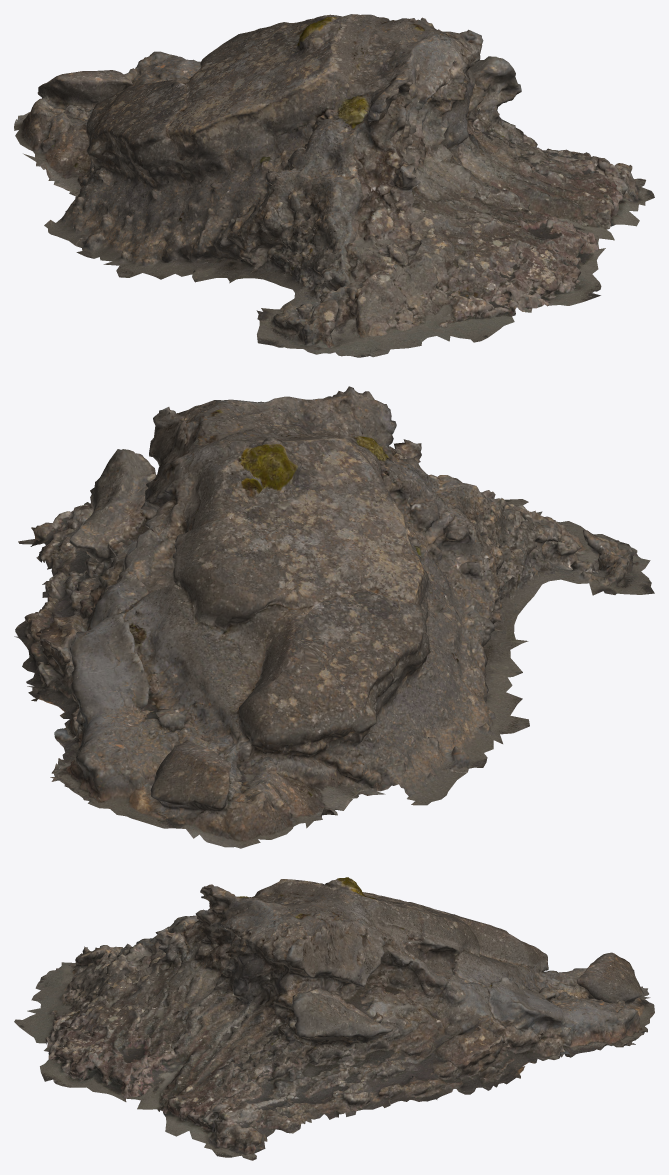
The picture shows the model from 3 angles, top to bottom: view 1: azimuth 30°, elevation 25°; view 2: azimuth 150°, elevation 25°; view 3: azimuth 270°, elevation 25°; orthographic projection. The views are drawn at different scales.
Visible parts, largest first — view 1: Rocks; view 2: Rocks; view 3: Rocks.
Part boxes in pixels (x1=…): Rocks: x1=14, y1=14, x2=654, y2=357; Rocks: x1=14, y1=386, x2=654, y2=848; Rocks: x1=14, y1=877, x2=654, y2=1160.
Bounding box in the file's own units: 2.39 × 0.9761 × 3.1.
Materials: 1 (1 with a texture image).
